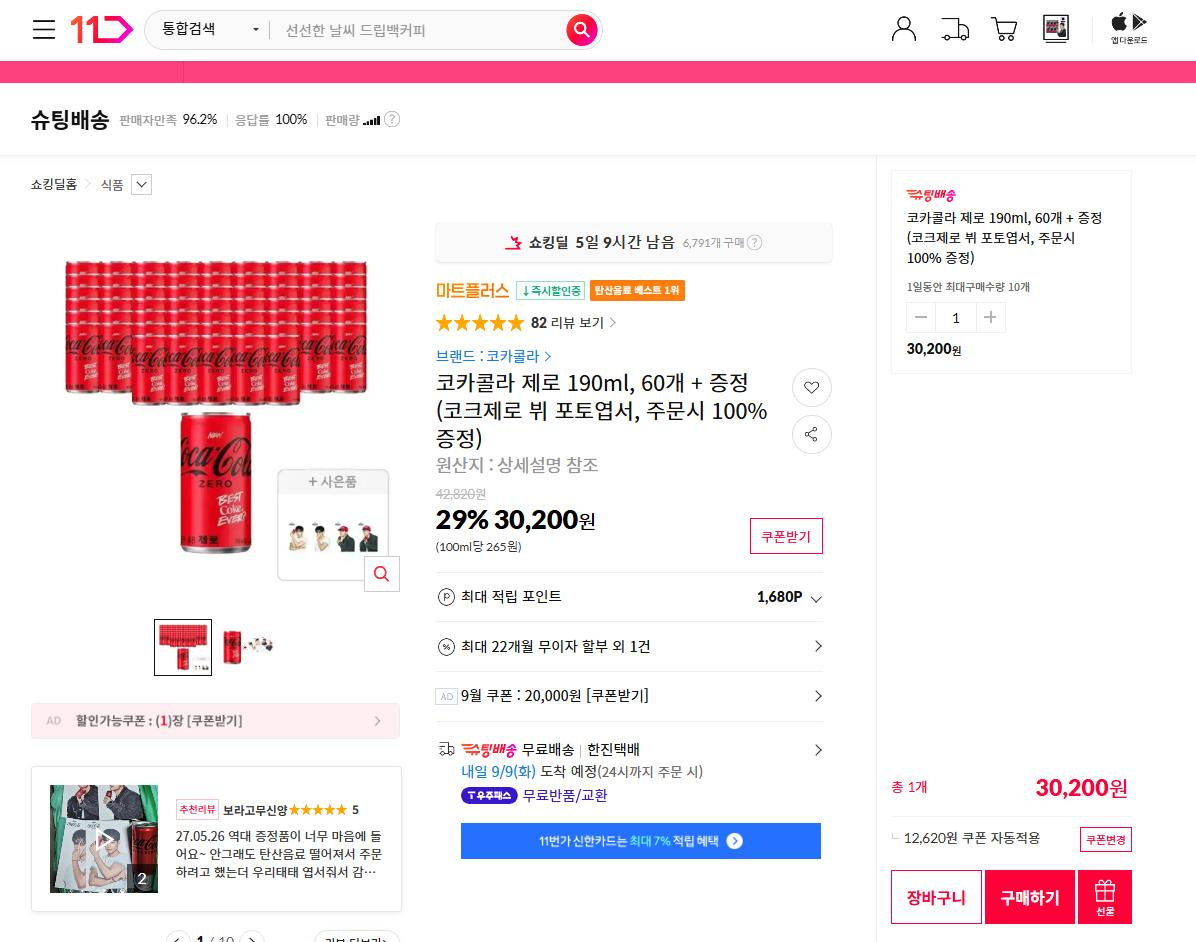button: (277, 469, 400, 590), (469, 821, 816, 854), (39, 703, 386, 734), (891, 871, 983, 920), (989, 870, 1074, 921), (744, 516, 823, 559), (154, 620, 209, 676), (60, 11, 133, 49), (1080, 870, 1130, 923), (224, 619, 273, 670), (910, 301, 1004, 326), (1110, 13, 1159, 44), (1080, 827, 1133, 851), (1043, 13, 1076, 47), (987, 14, 1021, 43), (943, 17, 973, 46), (893, 17, 919, 43), (800, 376, 824, 401), (797, 423, 820, 444), (810, 639, 827, 660), (804, 746, 829, 757), (810, 690, 821, 703)
checkbox: (147, 14, 267, 44), (751, 586, 820, 606), (101, 176, 157, 196)
input_field: (271, 14, 596, 49)
